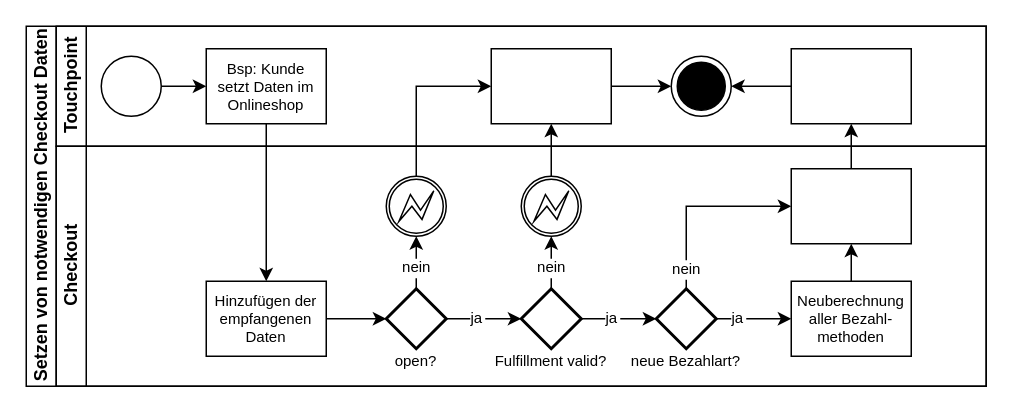
This 1011x411 diagram has some shape labels left out. The shapes that lost their labels are listed below. From the top down, each one's box as (x1, y1, x2, y2) in pixels, then its label:
(490, 47, 611, 124): Verarbeitung des Fehlercodes
(790, 47, 911, 124): Anzeigen des aktualisierten Baskets
(790, 167, 911, 244): Persisiterung der Änderungen
